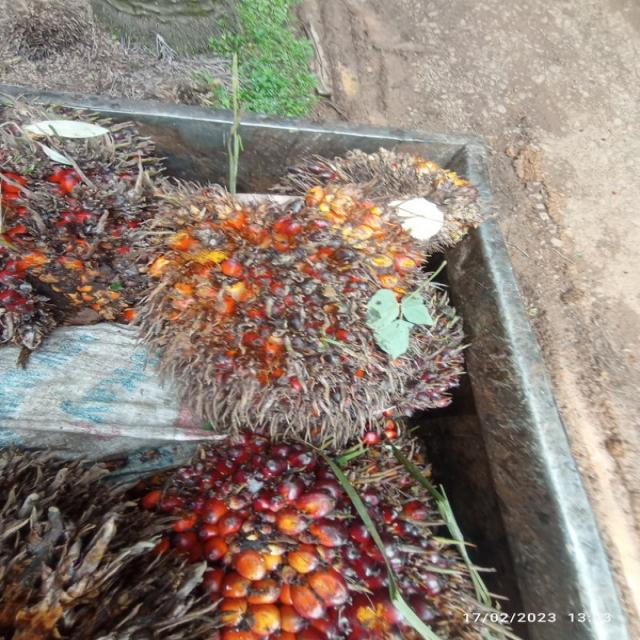fraksi 4: (131, 153, 472, 446), (0, 124, 181, 353)
